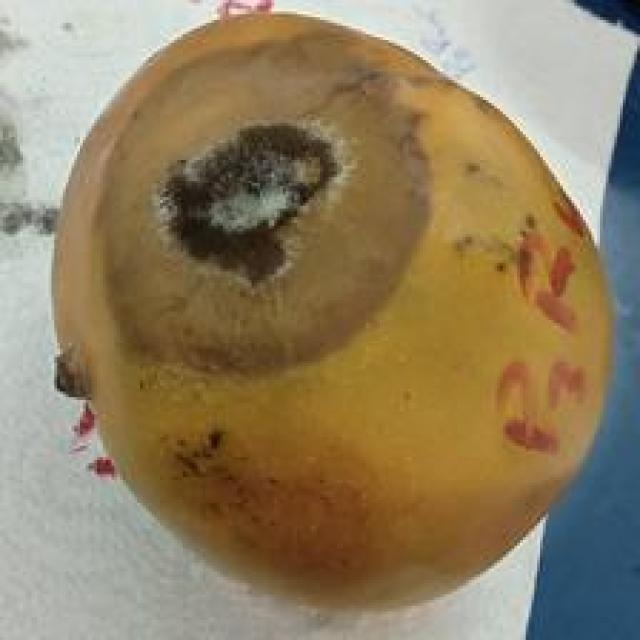Bad_Mango: (56, 18, 609, 604)
